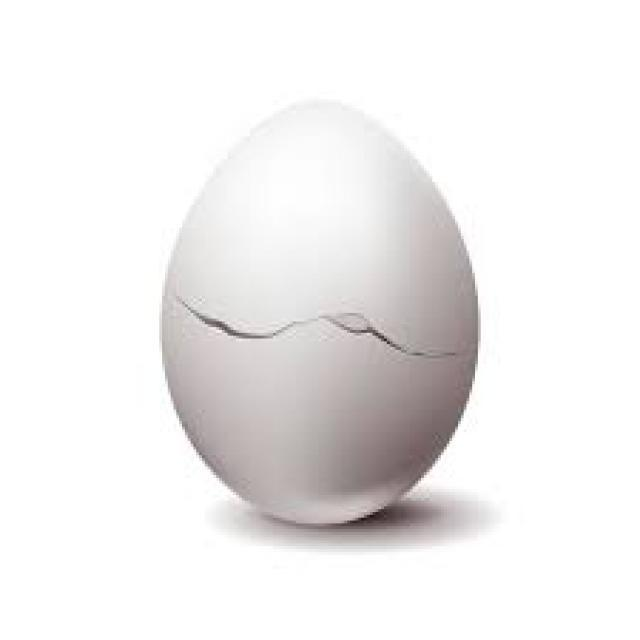biodegradable: (136, 94, 506, 542)
